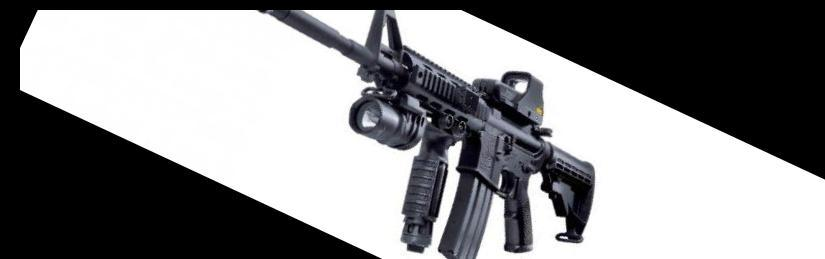larga: (260, 10, 595, 259)
